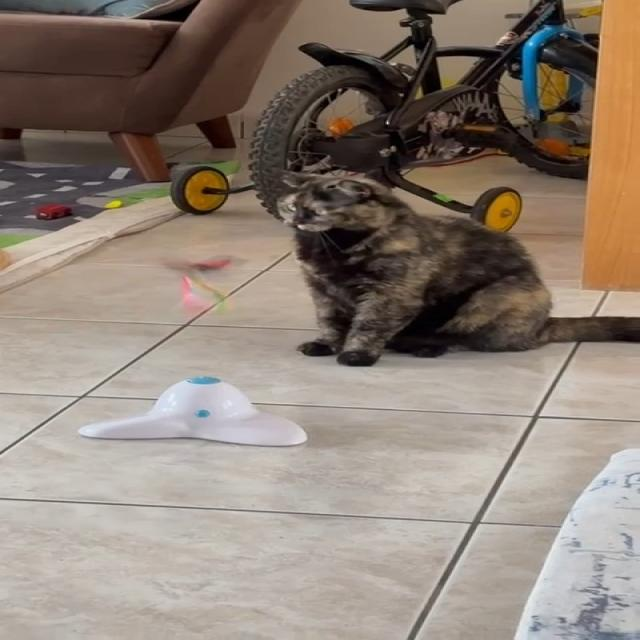authorized: (274, 168, 638, 367)
